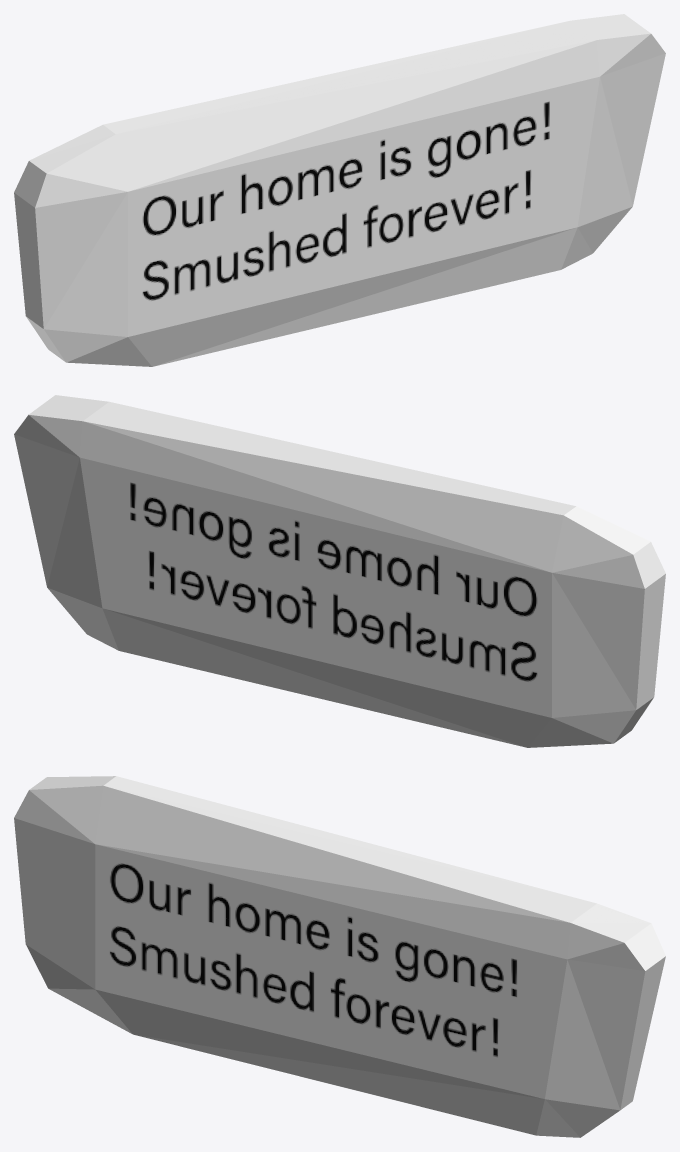
File: 042620ant02textBubbleTextured.gltf
The picture shows the model from 3 angles, top to bottom: view 1: azimuth 30°, elevation 25°; view 2: azimuth 150°, elevation 25°; view 3: azimuth 330°, elevation 25°; orthographic projection.
Parts seen in each view (by area): view 1: ant02; view 2: ant02; view 3: ant02.
Boxes of the visible parts, x1,y1,x2,y2 form: ant02: [14, 14, 665, 366]; ant02: [14, 395, 665, 747]; ant02: [14, 776, 665, 1137].
Bounding box in the file's own units: 4.54 × 1.64 × 0.4079.
1 material, 1 textured.
